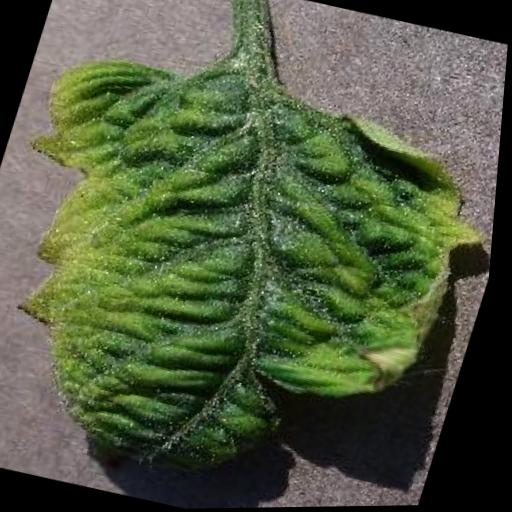Yellow Leaf Curl Virus: (0, 40, 509, 512)
